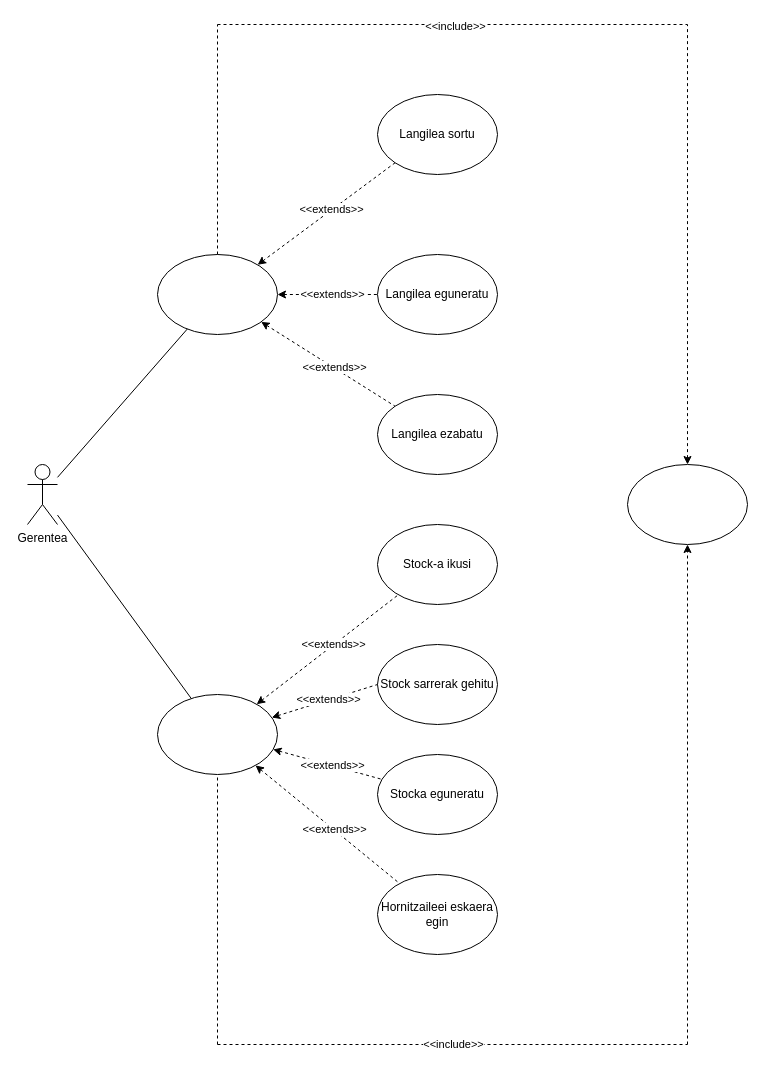
This 765x1070 diagram has some shape labels left out. The shapes that lost their labels are listed below. From the top down, each one's centre as x and y in pixels, then its label:
[217,294]: Langileen kudeaketa
[687,504]: Logina egin
[217,734]: Stock kudeaketa
